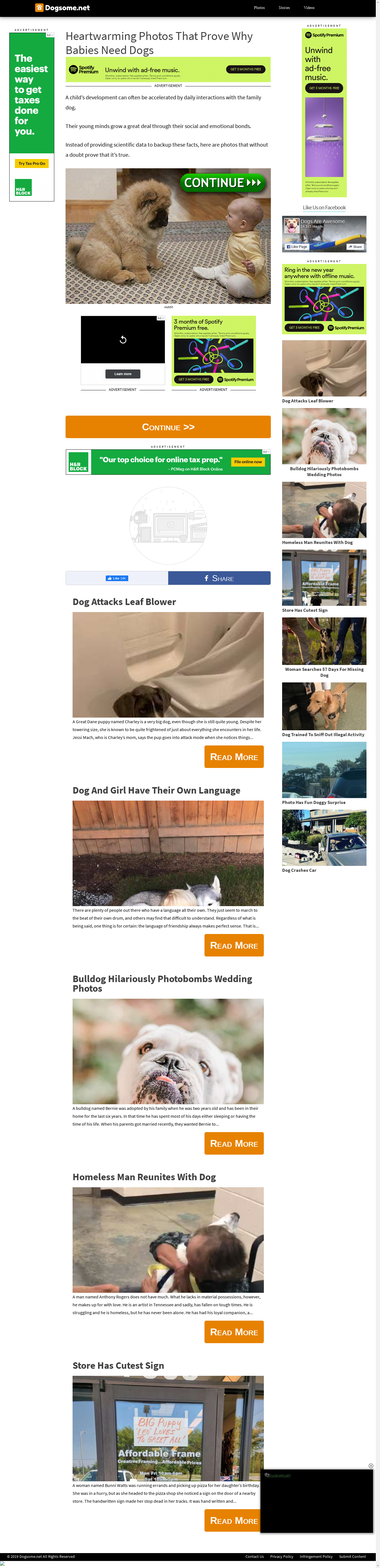fake_button: (60, 415, 279, 446), (177, 170, 274, 204), (195, 1314, 269, 1351), (196, 1129, 268, 1164), (198, 744, 271, 775), (199, 933, 266, 964), (199, 1508, 265, 1534), (15, 157, 50, 172)
